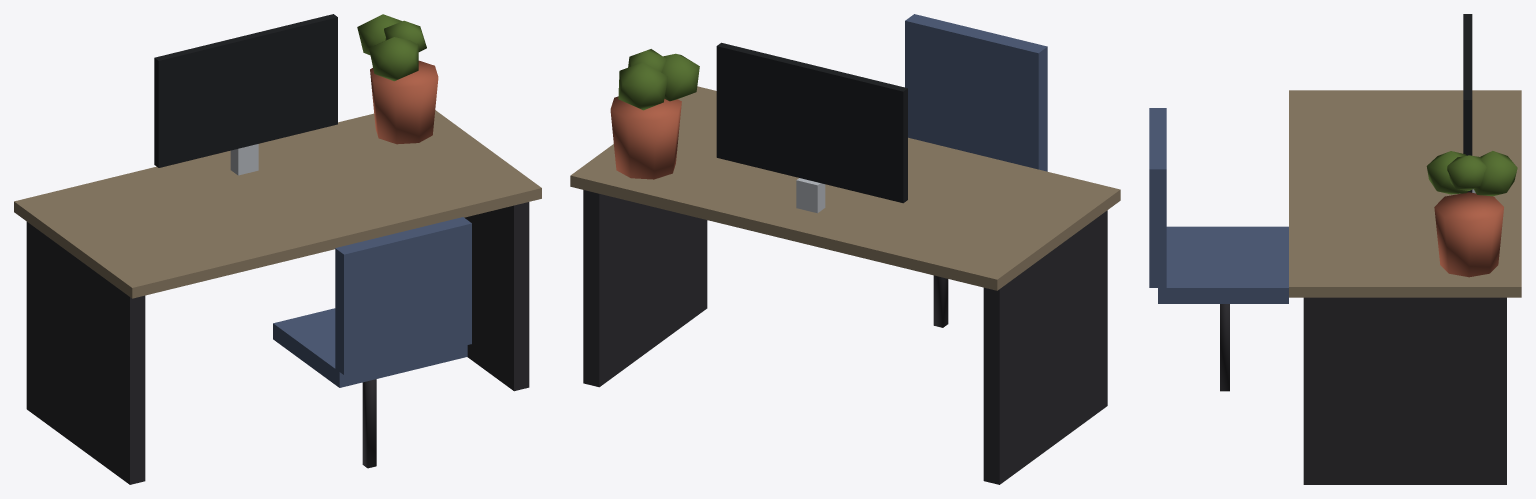
Rendered from city_workstation.glb.
The picture shows the model from 3 angles, left to right: view 1: azimuth 30°, elevation 25°; view 2: azimuth 150°, elevation 25°; view 3: azimuth 270°, elevation 25°; orthographic projection. The views are drawn at different scales.
Visible parts, largest first — view 1: CityWorkstation_Top, CityWorkstation_Leg-0.75, CityWorkstation_Screen, CityWorkstation_SeatBack, CityWorkstation_Leg0.75, CityWorkstation_Seat, CityWorkstation_Pot, CityWorkstation_Plant, CityWorkstation_Stem, CityWorkstation_Stand; view 2: CityWorkstation_Top, CityWorkstation_Leg-0.75, CityWorkstation_Screen, CityWorkstation_Leg0.75, CityWorkstation_SeatBack, CityWorkstation_Pot, CityWorkstation_Plant, CityWorkstation_Stand, CityWorkstation_Stem; view 3: CityWorkstation_Top, CityWorkstation_Leg0.75, CityWorkstation_Seat, CityWorkstation_Pot, CityWorkstation_Plant, CityWorkstation_SeatBack, CityWorkstation_Screen, CityWorkstation_Stem.
Boxes of the visible parts, <box> form: CityWorkstation_Top: <box>14,110,541,298</box>; CityWorkstation_Leg-0.75: <box>26,222,145,484</box>; CityWorkstation_Screen: <box>154,14,337,167</box>; CityWorkstation_SeatBack: <box>335,217,471,374</box>; CityWorkstation_Leg0.75: <box>464,202,529,391</box>; CityWorkstation_Seat: <box>273,308,467,387</box>; CityWorkstation_Pot: <box>370,60,438,144</box>; CityWorkstation_Plant: <box>357,14,426,81</box>; CityWorkstation_Stem: <box>362,379,376,468</box>; CityWorkstation_Stand: <box>230,144,258,175</box>; CityWorkstation_Top: <box>570,86,1120,290</box>; CityWorkstation_Leg-0.75: <box>983,210,1107,484</box>; CityWorkstation_Screen: <box>716,42,907,203</box>; CityWorkstation_Leg0.75: <box>583,190,707,387</box>; CityWorkstation_SeatBack: <box>905,14,1047,171</box>; CityWorkstation_Pot: <box>610,96,681,179</box>; CityWorkstation_Plant: <box>618,49,699,110</box>; CityWorkstation_Stand: <box>796,178,825,213</box>; CityWorkstation_Stem: <box>933,275,948,327</box>; CityWorkstation_Top: <box>1289,90,1521,297</box>; CityWorkstation_Leg0.75: <box>1303,297,1506,484</box>; CityWorkstation_Seat: <box>1158,226,1288,303</box>; CityWorkstation_Pot: <box>1434,192,1503,277</box>; CityWorkstation_Plant: <box>1426,151,1517,196</box>; CityWorkstation_SeatBack: <box>1149,108,1166,287</box>; CityWorkstation_Screen: <box>1463,14,1472,192</box>; CityWorkstation_Stem: <box>1220,304,1229,391</box>.
Bounding box in the file's own units: 1.6 × 1.26 × 1.28.
